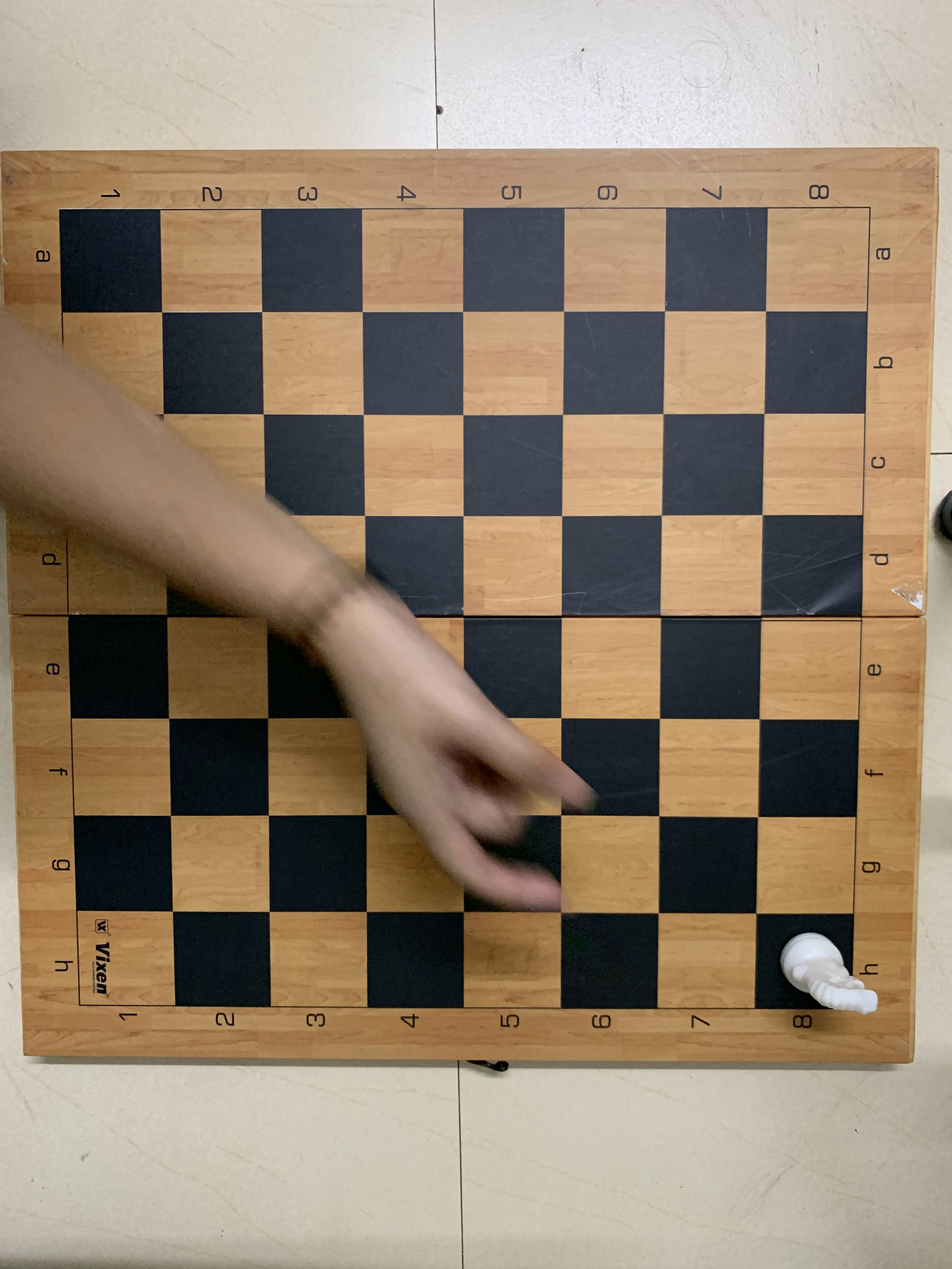white_knight: (759, 915, 856, 1009)
